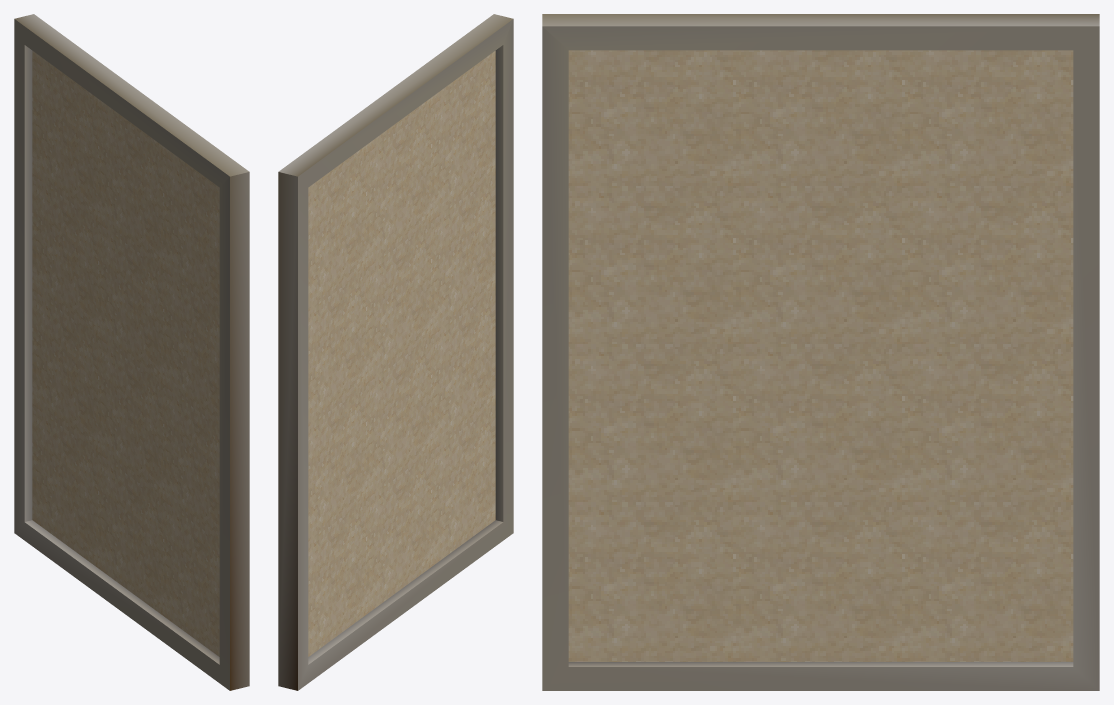
File: tutikabe_2jyo_01.fbx
3 renders of one model, left to right at view 1: azimuth 30°, elevation 25°; view 2: azimuth 150°, elevation 25°; view 3: azimuth 270°, elevation 25°, orthographic. The views are drawn at different scales.
Visible parts, largest first — view 1: tutikabe_2jyo_01; view 2: tutikabe_2jyo_01; view 3: tutikabe_2jyo_01.
Part boxes in pixels (x1=…): tutikabe_2jyo_01: x1=14, y1=14, x2=249, y2=690; tutikabe_2jyo_01: x1=278, y1=14, x2=513, y2=690; tutikabe_2jyo_01: x1=542, y1=14, x2=1099, y2=690.
Bounding box in the file's own units: 20 × 500 × 380.
